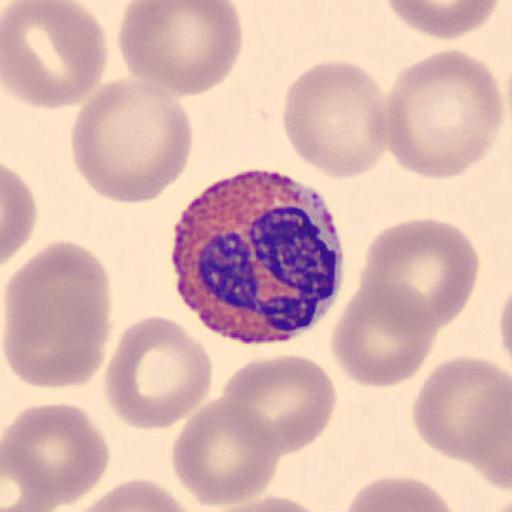RBC: (0, 237, 112, 391), (69, 75, 194, 206), (384, 47, 503, 180), (356, 216, 479, 335), (282, 59, 390, 181), (102, 314, 214, 431), (170, 396, 281, 507), (118, 0, 244, 97), (222, 353, 337, 457), (2, 0, 108, 110), (1, 402, 111, 508), (330, 282, 439, 388), (410, 353, 512, 465), (462, 373, 512, 490), (61, 476, 202, 512), (385, 0, 500, 42), (341, 474, 461, 512), (0, 444, 58, 511), (1, 163, 37, 267), (213, 493, 339, 512), (498, 284, 512, 361)
WBC: (167, 169, 346, 346)
